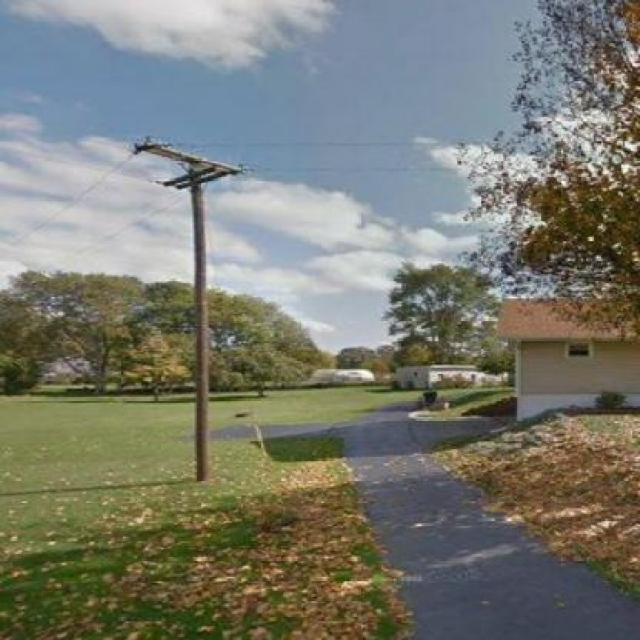pole: (124, 126, 247, 480)
